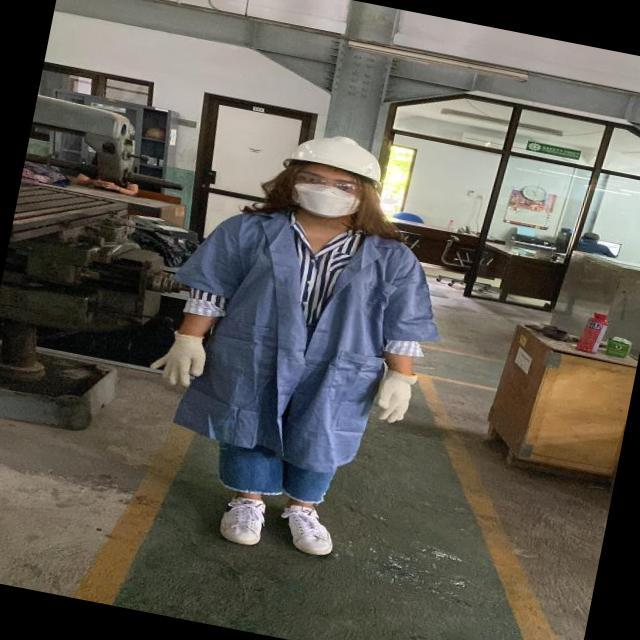Gloves: (148, 319, 215, 396), (369, 362, 428, 437)
Helmet: (294, 129, 406, 192)
Person: (143, 109, 445, 568)
Safety Boot: (209, 493, 339, 557)
no-vest: (169, 213, 435, 475)
